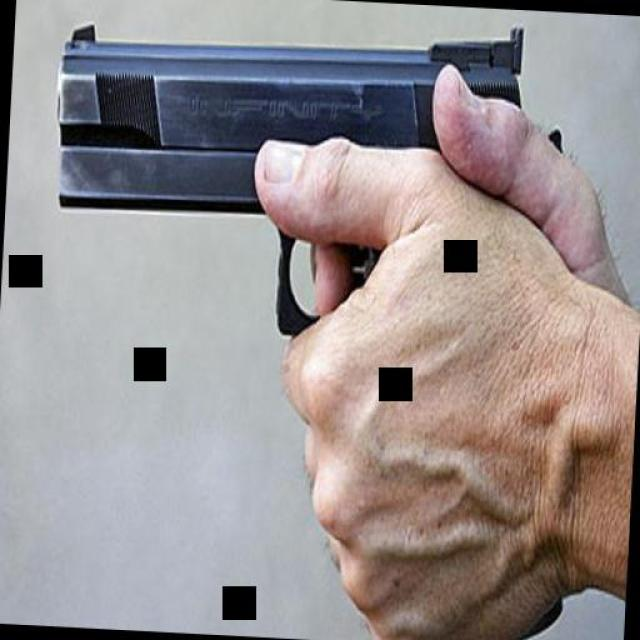gun: (42, 9, 580, 346)
